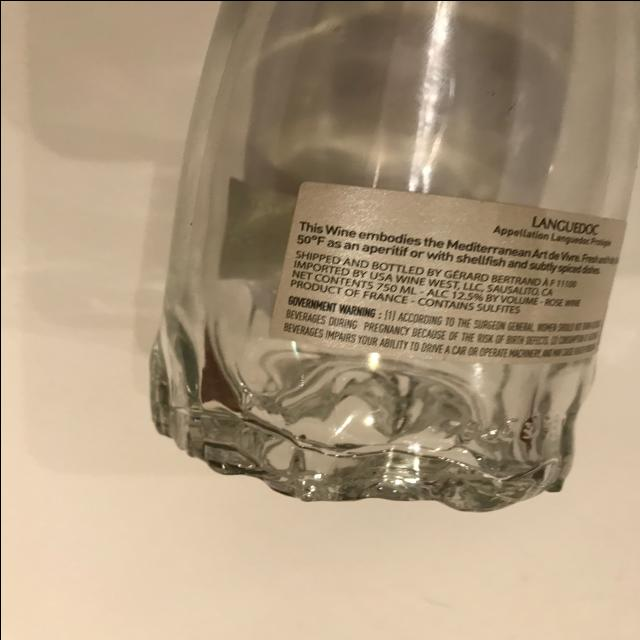glass: (152, 0, 636, 512)
